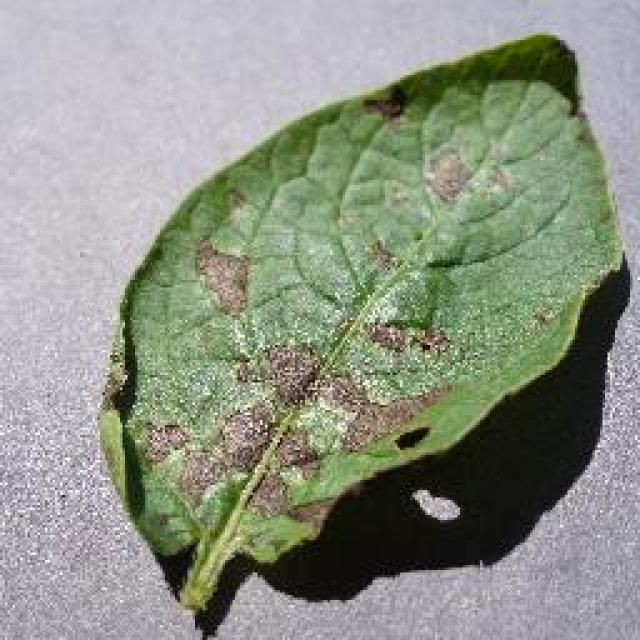early_blight: (92, 30, 628, 618)
